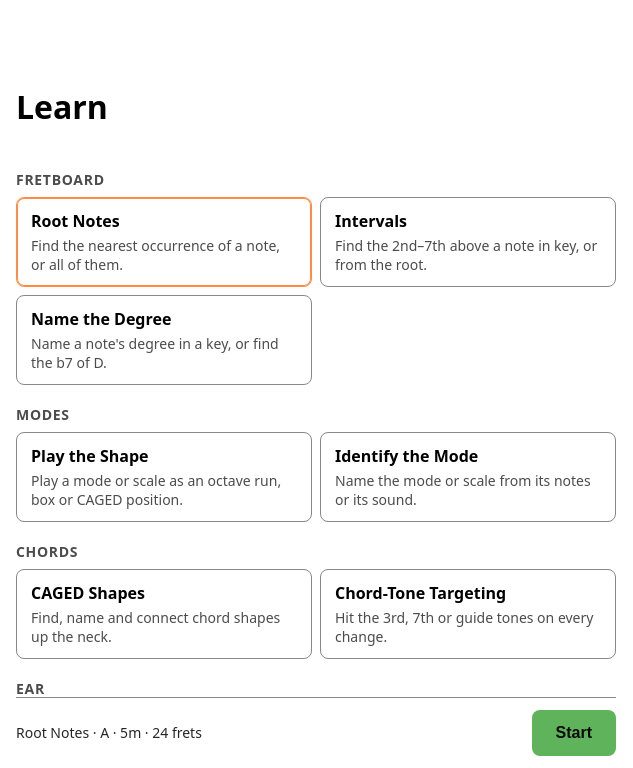
it: StartScreen — Chord-Tone Targeting › blocks start on an invalid tempo
The width and height of the screenshot is (633, 768).
Click the button that starts with "Chord-Tone Targeting" at [468, 614], box [320,569,616,659]
(page scrolled)
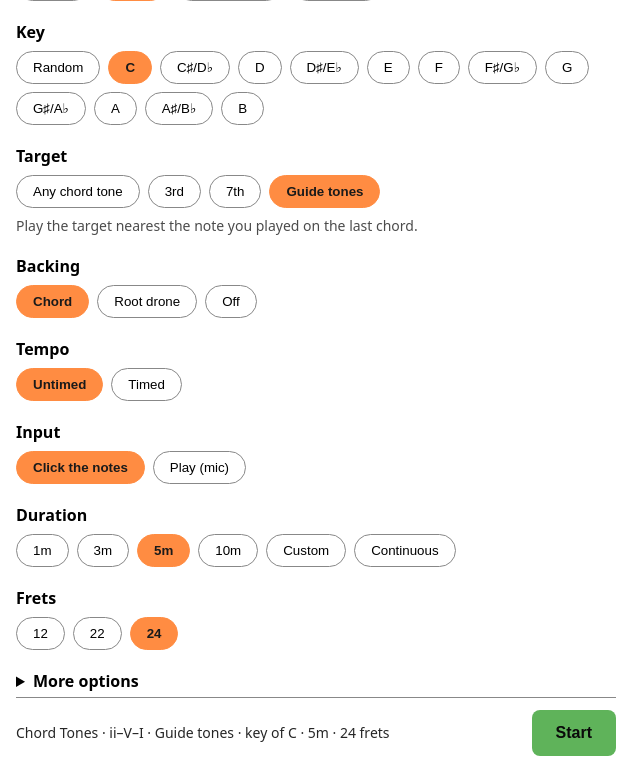
Click the button with class "chip" showing "Timed" at [147, 384], box [111,368,182,401]
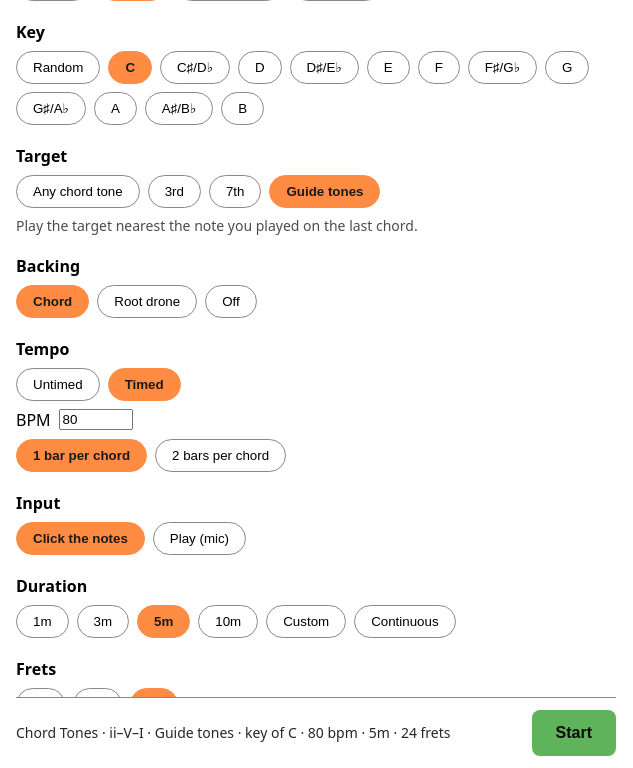
Replace the text in the number field named "BPM" with "10" at [96, 420], box [59,409,133,430]
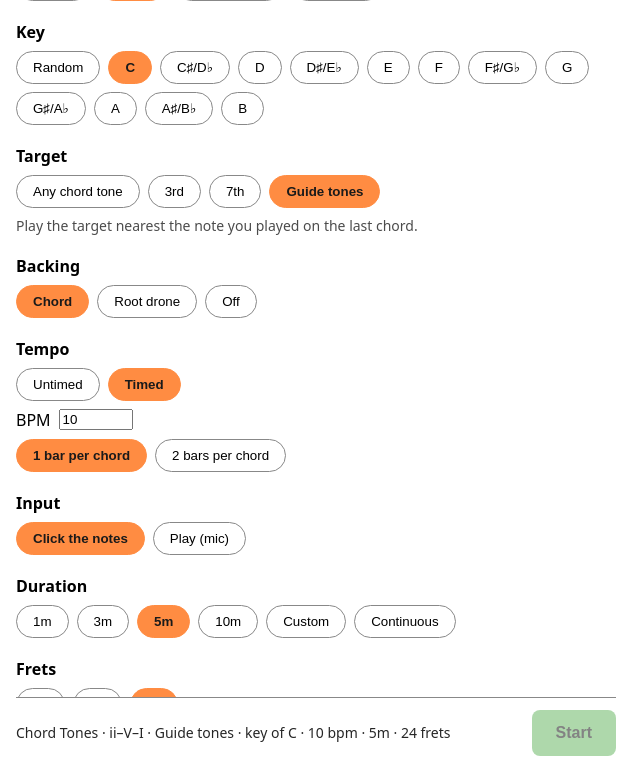
Expected: the button with class "start-button" is disabled, [532,710,616,756]
